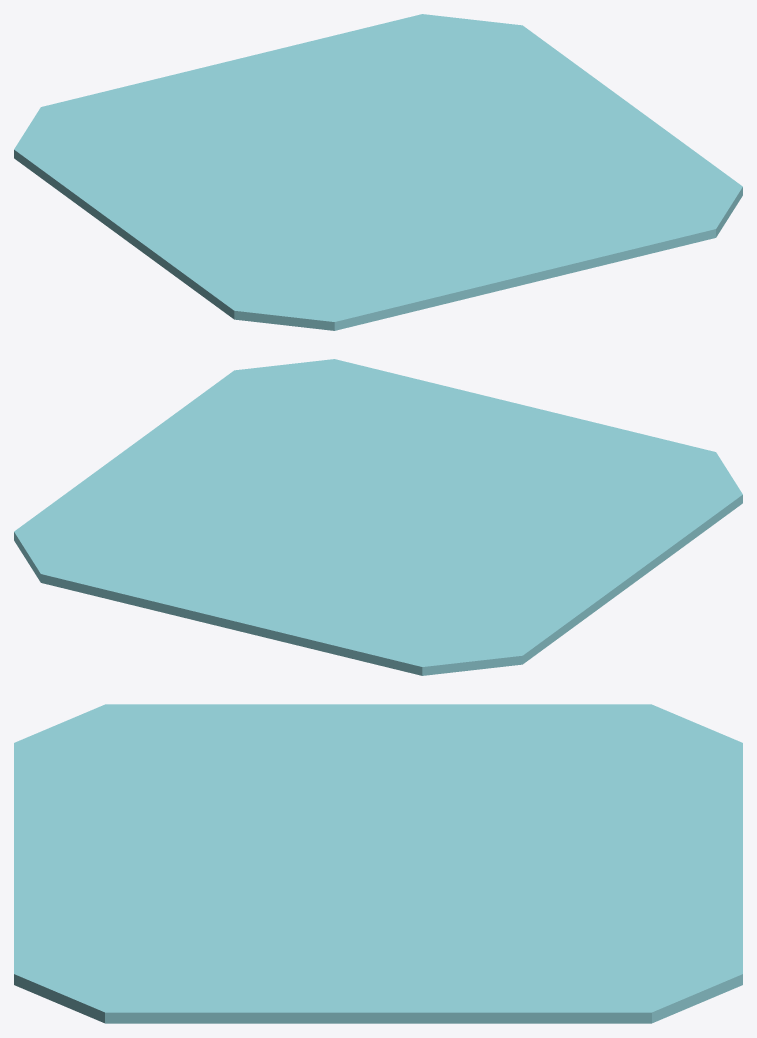
Rendered from LiftToGame.glb.
3 views of the same model, one above another, from view 1: azimuth 30°, elevation 25°; view 2: azimuth 150°, elevation 25°; view 3: azimuth 270°, elevation 25° (orthographic). The views are drawn at different scales.
Parts seen in each view (by area): view 1: Lift; view 2: Lift; view 3: Lift.
Boxes of the visible parts, box(x1,y1,x2,y2) form: Lift: box(14, 14, 742, 330); Lift: box(14, 359, 742, 675); Lift: box(14, 704, 742, 1023).
Size of what is drawn, in the model's own units: 3 by 0.05 by 3.
